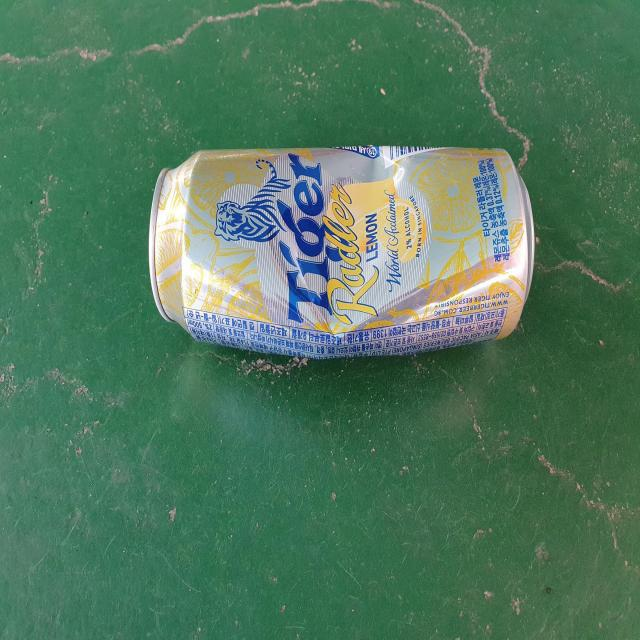can: (148, 145, 536, 358)
